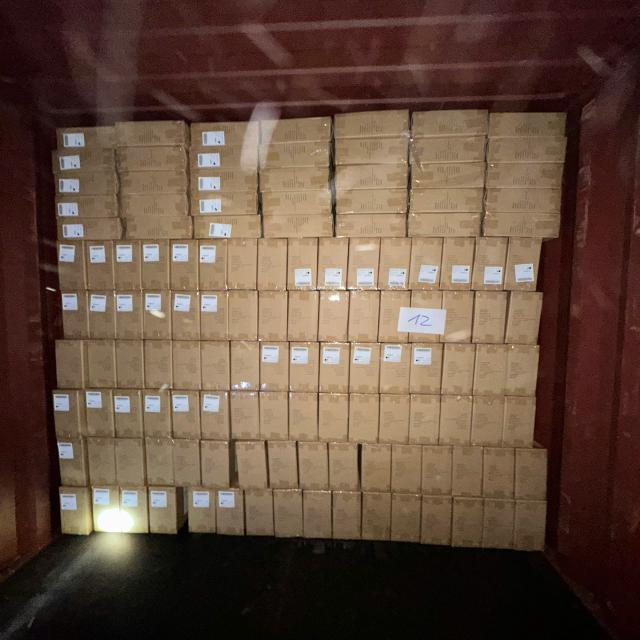Carton: (486, 135, 573, 165), (489, 112, 573, 142), (487, 164, 569, 194), (187, 164, 260, 197), (482, 210, 564, 239), (333, 112, 410, 142), (482, 188, 563, 216), (409, 135, 487, 164), (115, 143, 190, 173), (410, 111, 487, 140), (407, 164, 484, 193), (333, 138, 409, 167), (259, 141, 333, 170), (332, 190, 408, 218), (261, 117, 334, 146), (52, 145, 120, 176), (406, 211, 484, 238), (410, 188, 485, 216), (503, 240, 540, 296), (259, 190, 333, 218), (188, 120, 262, 148), (333, 167, 409, 194), (507, 290, 543, 346), (262, 213, 336, 240), (333, 212, 407, 239), (473, 237, 508, 292), (258, 167, 332, 193), (114, 120, 187, 146), (506, 343, 541, 397), (513, 448, 549, 500), (117, 170, 189, 196), (442, 237, 476, 292), (514, 499, 548, 554), (474, 291, 508, 345), (189, 192, 259, 218), (192, 214, 262, 240), (504, 396, 538, 449), (443, 342, 476, 396), (410, 292, 443, 346), (119, 193, 190, 218), (472, 397, 506, 449), (482, 500, 516, 552), (475, 343, 508, 396), (379, 239, 411, 293), (410, 239, 442, 293), (286, 240, 318, 294), (376, 289, 408, 343), (442, 292, 474, 346), (188, 146, 260, 170), (411, 342, 444, 394), (319, 237, 350, 292), (54, 216, 122, 241), (346, 240, 378, 293), (483, 446, 515, 499), (54, 194, 119, 220), (60, 487, 93, 538), (440, 396, 473, 447), (124, 216, 194, 240), (235, 440, 268, 490), (53, 171, 119, 196), (349, 341, 380, 394), (348, 291, 379, 344), (452, 497, 483, 550), (286, 292, 318, 343), (420, 497, 452, 548), (58, 438, 90, 489), (258, 238, 288, 292), (84, 389, 117, 438), (380, 342, 411, 394), (410, 394, 441, 446), (319, 341, 349, 394), (229, 240, 259, 293), (348, 395, 379, 446), (451, 446, 482, 497), (86, 339, 118, 388), (89, 486, 121, 535), (318, 292, 348, 344), (261, 340, 291, 392), (422, 445, 452, 497), (288, 340, 318, 392), (200, 292, 230, 344), (299, 441, 330, 491), (229, 292, 260, 342), (287, 392, 318, 442), (200, 392, 231, 442), (330, 442, 361, 492), (390, 495, 421, 545), (148, 487, 179, 537), (391, 444, 422, 494), (57, 242, 88, 292), (55, 125, 116, 150), (115, 438, 146, 487), (200, 241, 229, 293), (170, 240, 199, 292), (200, 441, 232, 488), (380, 395, 410, 445), (318, 394, 348, 444), (269, 440, 299, 490), (231, 391, 261, 441), (113, 390, 143, 440), (144, 390, 174, 440), (142, 292, 172, 342), (56, 340, 86, 390), (120, 485, 150, 535), (53, 390, 84, 438), (231, 340, 260, 391), (172, 391, 201, 442), (274, 490, 304, 539), (334, 493, 364, 542), (360, 443, 390, 492), (360, 494, 390, 543), (214, 489, 244, 538), (244, 490, 274, 539), (144, 438, 174, 487), (142, 241, 170, 293), (173, 340, 202, 390), (260, 292, 289, 342), (115, 339, 144, 389), (202, 341, 231, 391), (261, 392, 290, 442), (172, 292, 201, 342), (87, 240, 116, 290), (112, 242, 141, 292), (186, 486, 216, 534), (88, 438, 118, 486), (303, 492, 332, 541), (89, 292, 118, 341), (114, 291, 142, 341), (61, 290, 89, 340), (144, 340, 172, 389), (173, 438, 201, 487)
